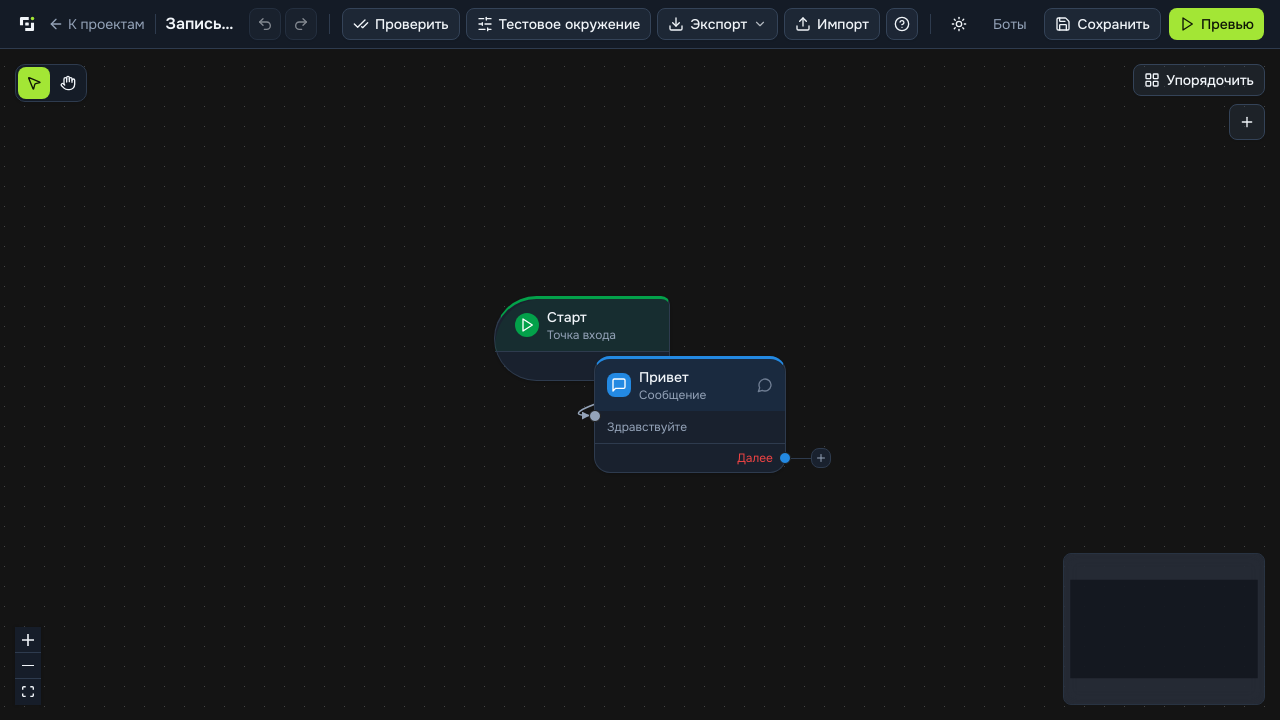
Test: EditorPage › меню блока › «Дублировать» создаёт копию с новым id, сдвигом 40 по сетке, без связей и выделяет её
This screenshot has width=1280, height=720.
Click the text "Привет" at [664, 377], box x1=639 y1=368 x2=689 y2=386
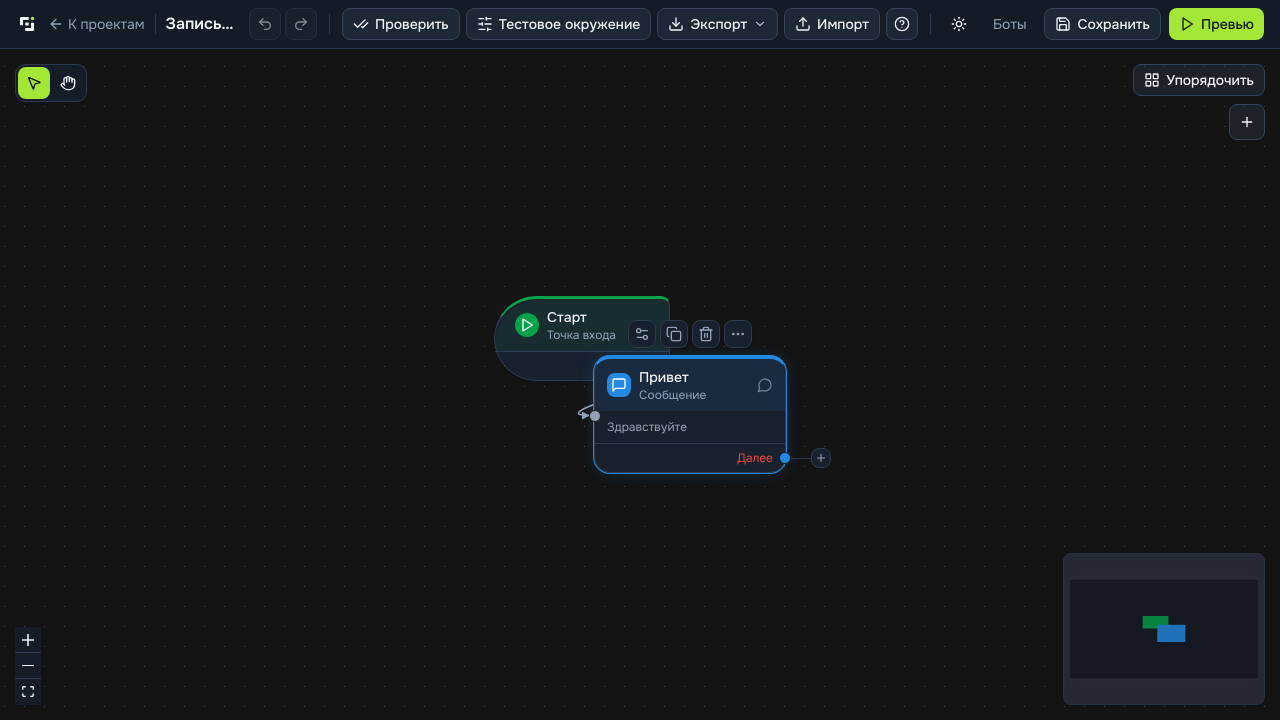
Click the button named "Дублировать" at [674, 334], box x1=660 y1=320 x2=688 y2=348
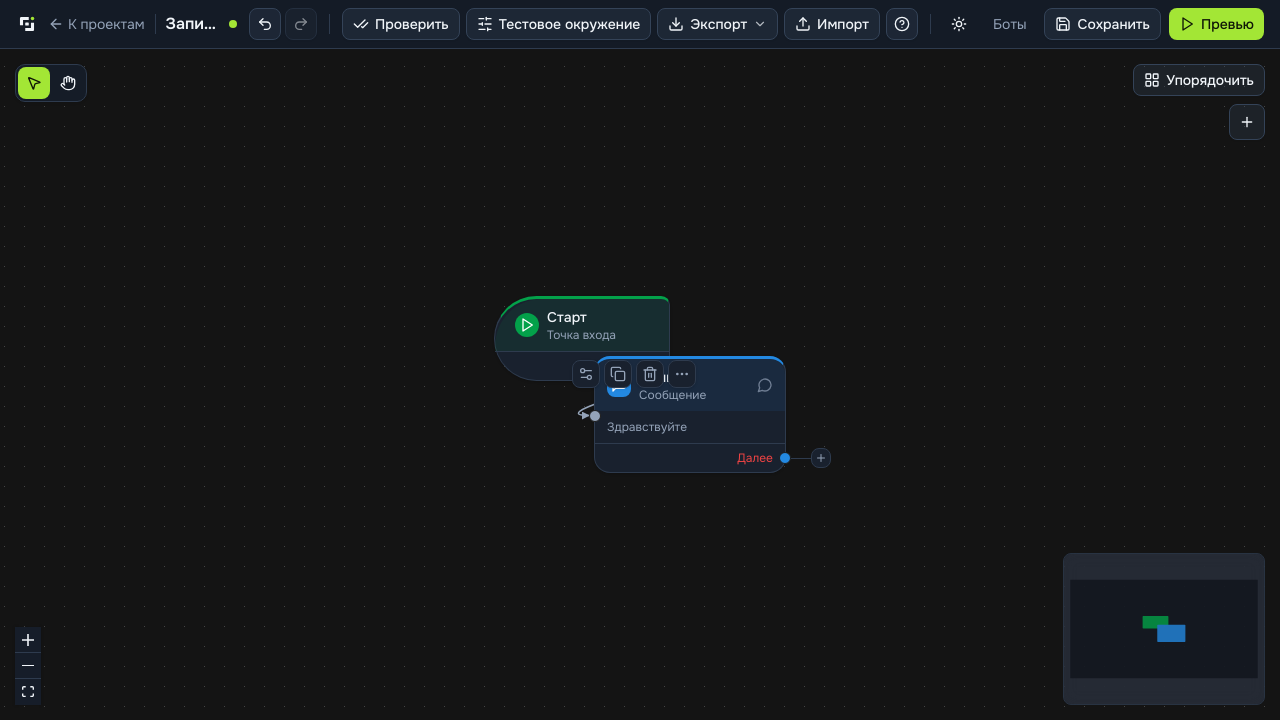
Press s
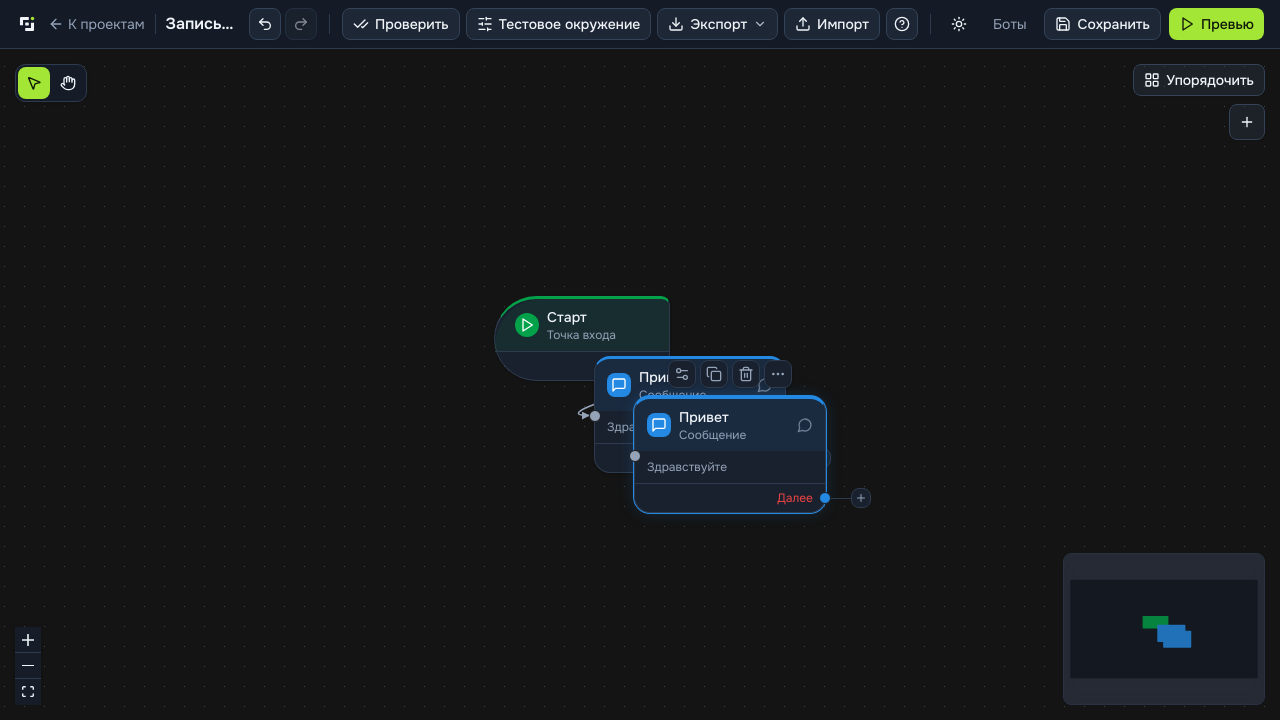
Now the number of elements with class "selected" is 1, box x1=634 y1=396 x2=826 y2=513
